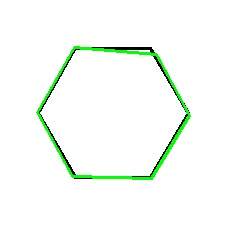line_segment: (37, 46, 190, 180)
